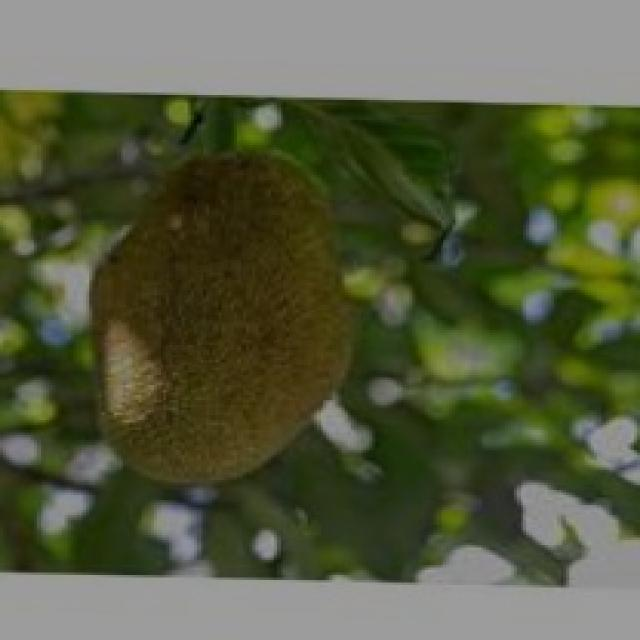Fruit: (58, 128, 384, 510)
